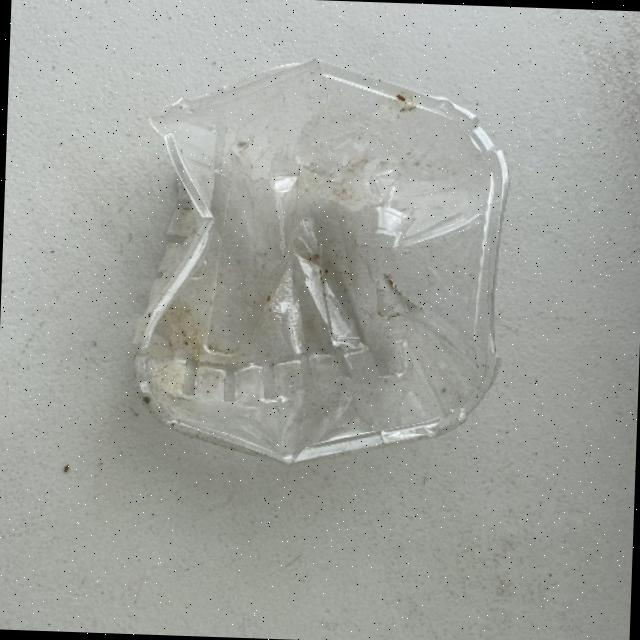plastic: (126, 51, 514, 472)
